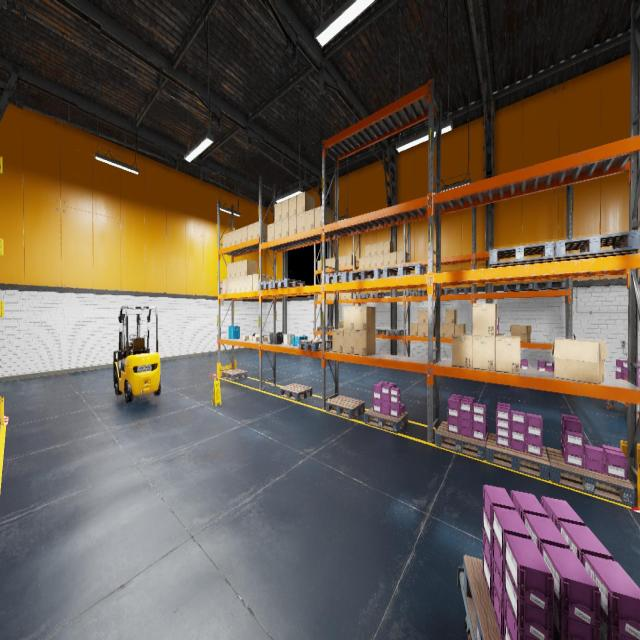box: (552, 339, 606, 384), (495, 336, 520, 374), (472, 336, 497, 370), (472, 304, 497, 336), (452, 334, 472, 368), (354, 306, 375, 331), (355, 330, 375, 356), (314, 205, 334, 228), (297, 191, 315, 214), (510, 325, 531, 342), (343, 306, 354, 330), (253, 274, 269, 290), (253, 221, 267, 239), (333, 328, 343, 353), (344, 330, 354, 354), (242, 260, 257, 276), (305, 208, 314, 230), (281, 198, 289, 220), (297, 212, 305, 233), (289, 195, 296, 217), (445, 310, 456, 324), (281, 218, 289, 237), (289, 215, 296, 235), (274, 202, 281, 222), (274, 220, 281, 240), (445, 323, 454, 338), (426, 310, 436, 323), (384, 240, 394, 253), (426, 323, 435, 337), (454, 324, 466, 334), (397, 251, 407, 263), (410, 322, 418, 336), (268, 223, 274, 241), (247, 223, 253, 240), (346, 255, 356, 265), (236, 228, 242, 244), (236, 260, 242, 276), (418, 323, 425, 336), (418, 310, 425, 323), (236, 277, 242, 292), (247, 274, 252, 291), (390, 252, 397, 264), (383, 253, 390, 265), (242, 226, 247, 242), (231, 277, 236, 293), (231, 262, 236, 278), (377, 254, 383, 266), (377, 242, 383, 254), (359, 256, 365, 268), (222, 279, 227, 293), (440, 323, 445, 337), (371, 243, 376, 256), (242, 276, 246, 292), (227, 278, 231, 294), (227, 263, 231, 279), (334, 321, 343, 328), (346, 292, 355, 299), (232, 230, 236, 245), (365, 244, 370, 256), (371, 255, 376, 267), (365, 256, 370, 268), (252, 332, 259, 340), (227, 232, 231, 246), (222, 234, 226, 248), (341, 255, 346, 266), (327, 258, 331, 268), (340, 293, 346, 299), (331, 258, 335, 267), (326, 293, 331, 300), (253, 336, 259, 341), (318, 260, 321, 270), (262, 337, 268, 341), (243, 335, 249, 339), (322, 294, 326, 300), (318, 294, 322, 300), (339, 256, 341, 266), (331, 294, 334, 300), (250, 335, 252, 339), (339, 293, 340, 299), (331, 279, 333, 282), (326, 259, 326, 268)
forklift: (114, 306, 161, 402)
pallets: (546, 448, 634, 508), (463, 556, 501, 640), (486, 432, 550, 480), (552, 230, 640, 261), (435, 422, 488, 461), (489, 242, 554, 267), (364, 407, 408, 433), (326, 395, 365, 419), (383, 263, 426, 278), (279, 384, 312, 402), (349, 268, 383, 282), (298, 338, 332, 351), (272, 278, 305, 288), (533, 280, 566, 290), (222, 368, 247, 381), (503, 282, 532, 292), (325, 272, 349, 283), (258, 281, 278, 290), (445, 288, 468, 295), (422, 289, 444, 296), (386, 329, 406, 335), (406, 290, 422, 296), (375, 328, 390, 334), (366, 293, 384, 298), (317, 326, 334, 331), (354, 293, 365, 299), (0, 414, 1, 432)
